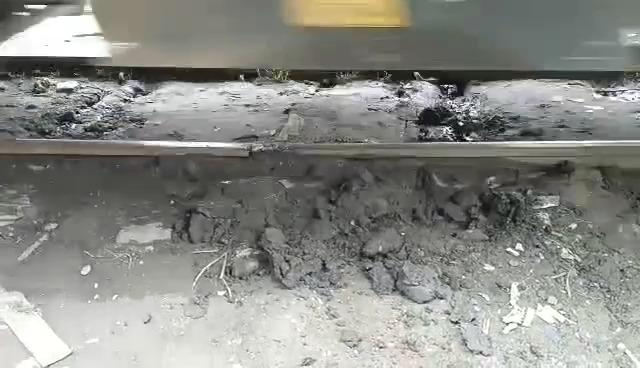railway-gap: (217, 122, 280, 175)
